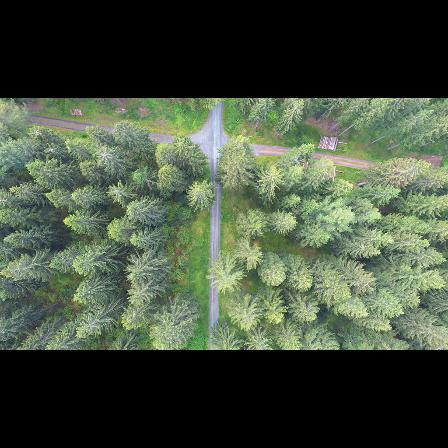Sick: (106, 180, 126, 201), (28, 123, 47, 142), (96, 147, 114, 165)
